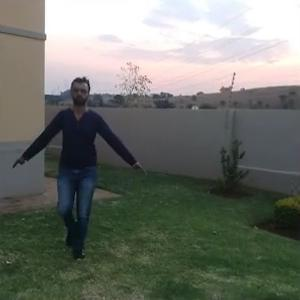land: (23, 85, 146, 242)
